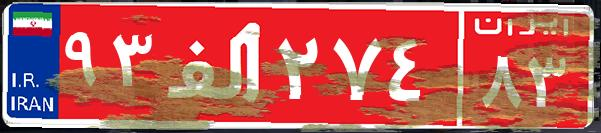2: (273, 28, 330, 110)
3: (110, 28, 158, 105), (525, 38, 570, 115)
4: (385, 28, 445, 110)
7: (330, 28, 385, 110)
8: (475, 38, 525, 113)
9: (57, 26, 110, 107)
الف: (158, 15, 273, 115)
